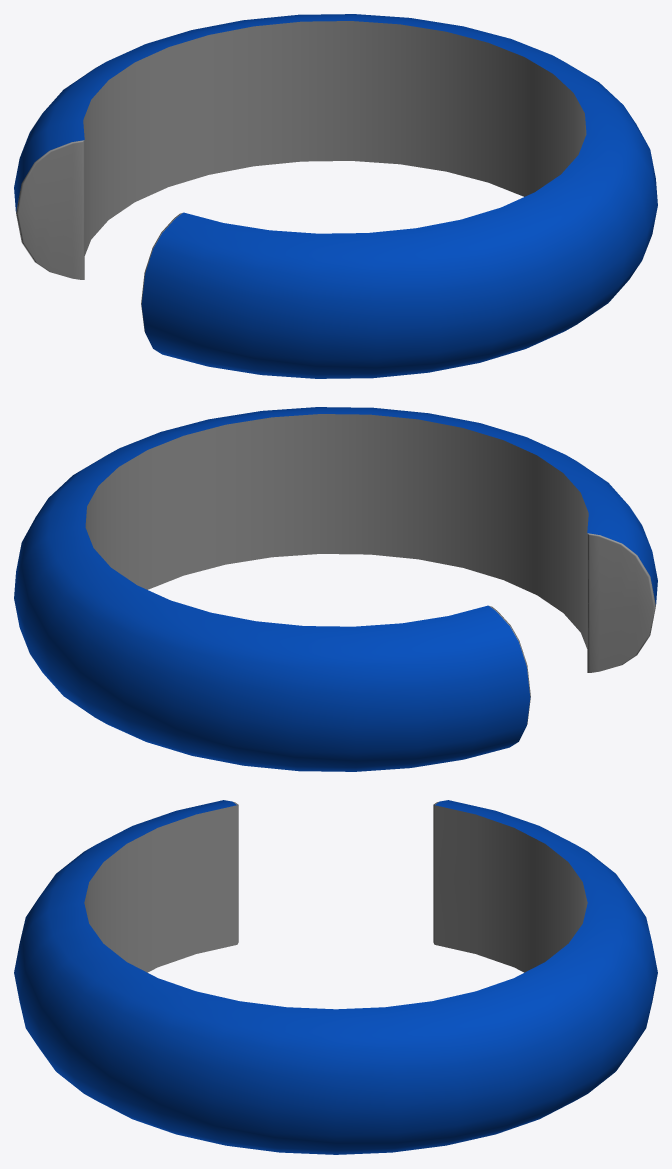
Rendered from Zns_Screen.gltf.
3 renders of one model, top to bottom at view 1: azimuth 30°, elevation 25°; view 2: azimuth 150°, elevation 25°; view 3: azimuth 270°, elevation 25°, orthographic.
Parts seen in each view (by area): view 1: Zns_Screen; view 2: Zns_Screen; view 3: Zns_Screen.
Boxes of the visible parts, x1,y1,x2,y2 form: Zns_Screen: (14, 14, 657, 378); Zns_Screen: (14, 407, 657, 771); Zns_Screen: (14, 800, 657, 1154).
Size of the model in its own units: 217 by 54.04 by 226.
